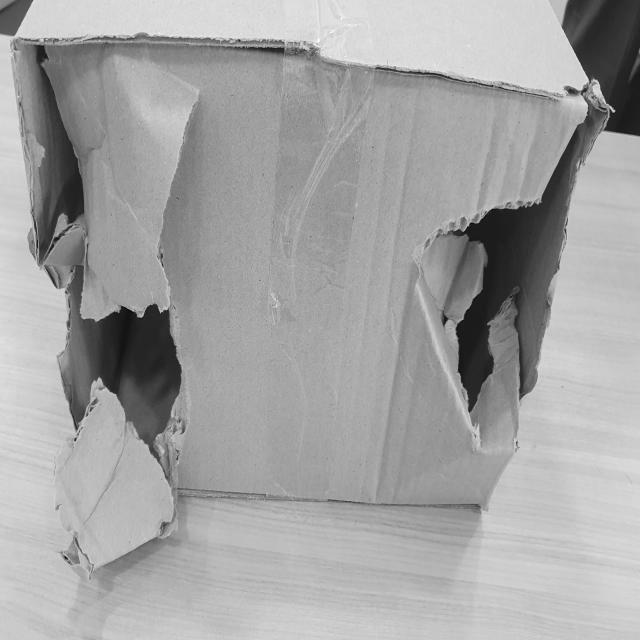hole: (8, 43, 202, 510), (419, 73, 583, 413)
